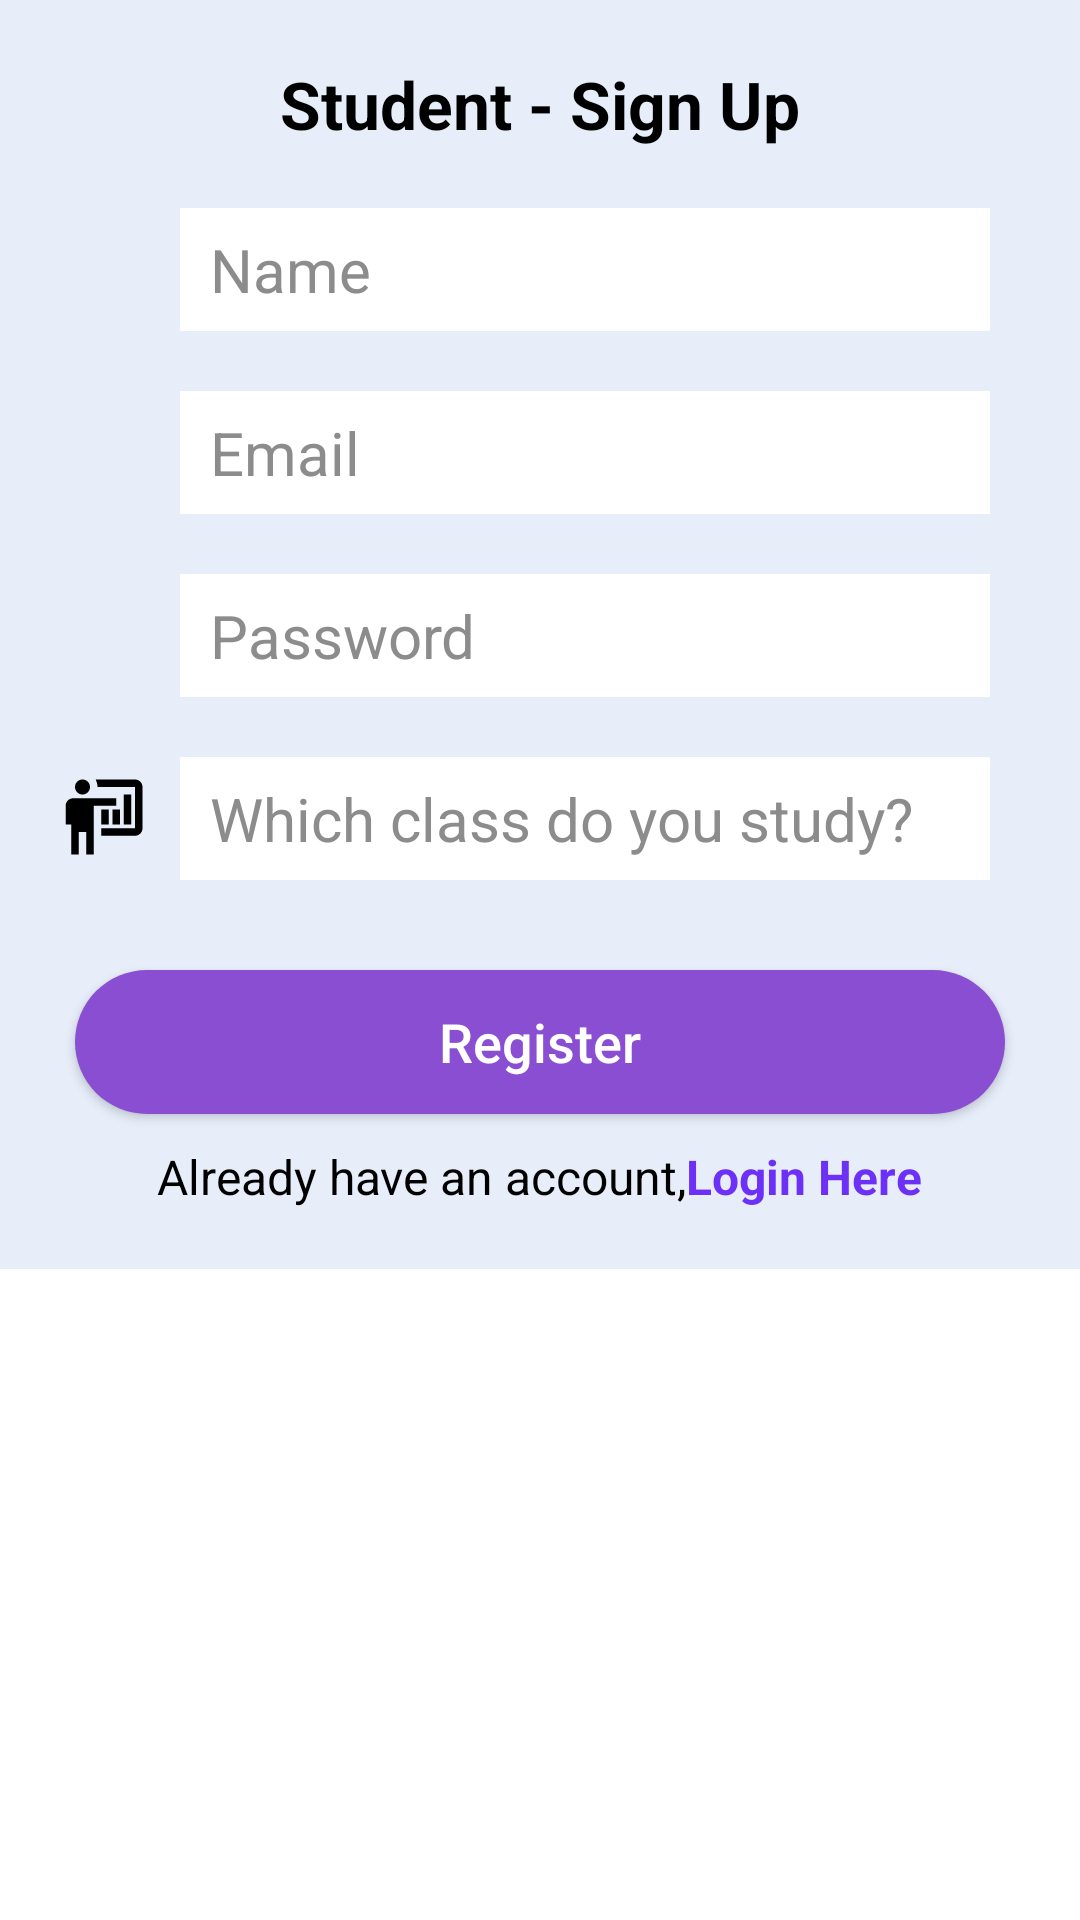

Named icons in this screenshot (1080 x 1920) and their centers, point (x, y):
human male board poll: point (104, 817)
